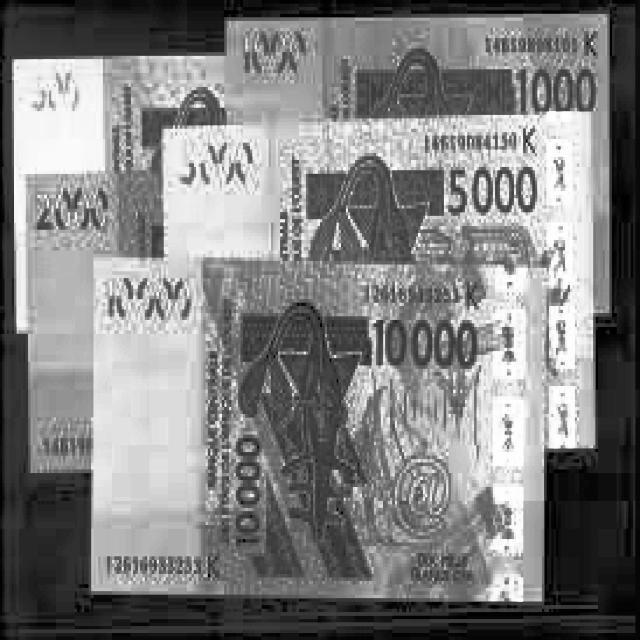junni: (164, 114, 595, 444)
niaar junni: (93, 259, 543, 597)
niaar teemeer: (227, 15, 610, 310)
nient teemeer: (28, 169, 161, 473)
teemeer: (14, 56, 224, 331)
